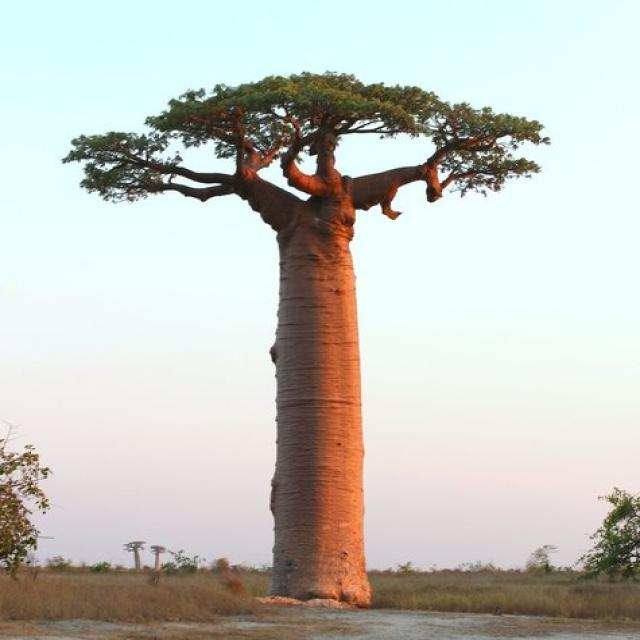baobab: (55, 58, 558, 603)
